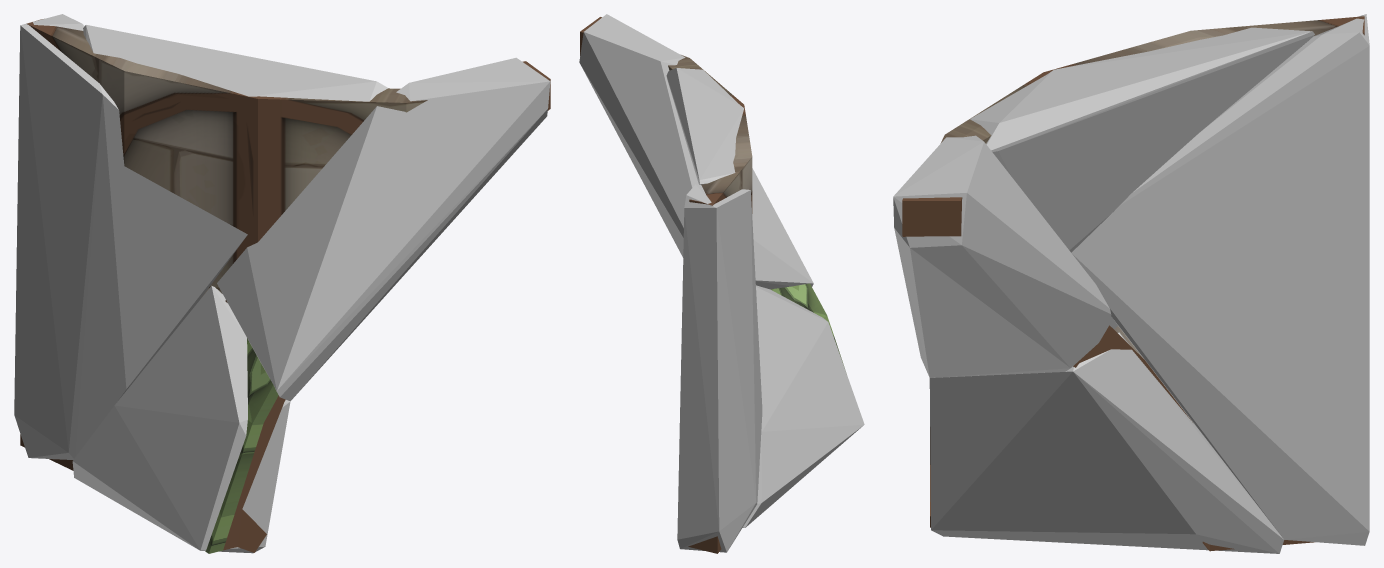
Rendered from SM_Bld_Roof_Convex_Tower_02.fbx.
3 renders of one model, left to right at view 1: azimuth 30°, elevation 25°; view 2: azimuth 150°, elevation 25°; view 3: azimuth 270°, elevation 25°, orthographic. The views are drawn at different scales.
Visible parts, largest first — view 1: SM_Bld_Roof_Convex_Tower_02_ConvexHulls, SM_Bld_Roof_Convex_Tower_02; view 2: SM_Bld_Roof_Convex_Tower_02_ConvexHulls, SM_Bld_Roof_Convex_Tower_02; view 3: SM_Bld_Roof_Convex_Tower_02_ConvexHulls, SM_Bld_Roof_Convex_Tower_02.
Part boxes in pixels (<box>): SM_Bld_Roof_Convex_Tower_02_ConvexHulls: <box>14,14,550,553</box>; SM_Bld_Roof_Convex_Tower_02: <box>20,19,550,553</box>; SM_Bld_Roof_Convex_Tower_02_ConvexHulls: <box>579,14,864,552</box>; SM_Bld_Roof_Convex_Tower_02: <box>580,17,844,553</box>; SM_Bld_Roof_Convex_Tower_02_ConvexHulls: <box>893,14,1369,553</box>; SM_Bld_Roof_Convex_Tower_02: <box>902,16,1364,551</box>.
Bounding box in the file's own units: 270 × 274 × 330.
Materials: 5 (4 with a texture image).
